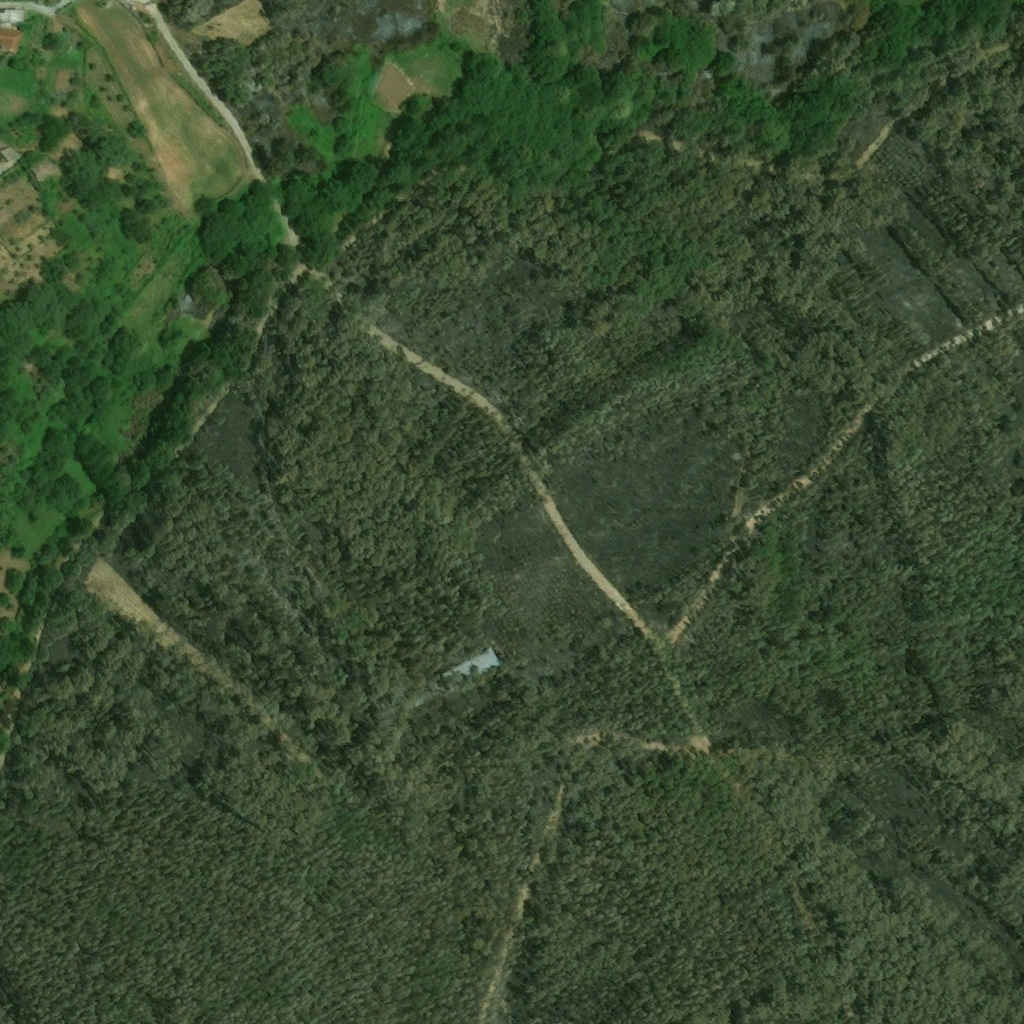0 no-damage: (439, 648, 499, 687), (28, 156, 60, 183), (0, 27, 23, 53), (0, 6, 23, 24)
4 un-classified: (0, 143, 20, 162), (0, 205, 12, 225)
